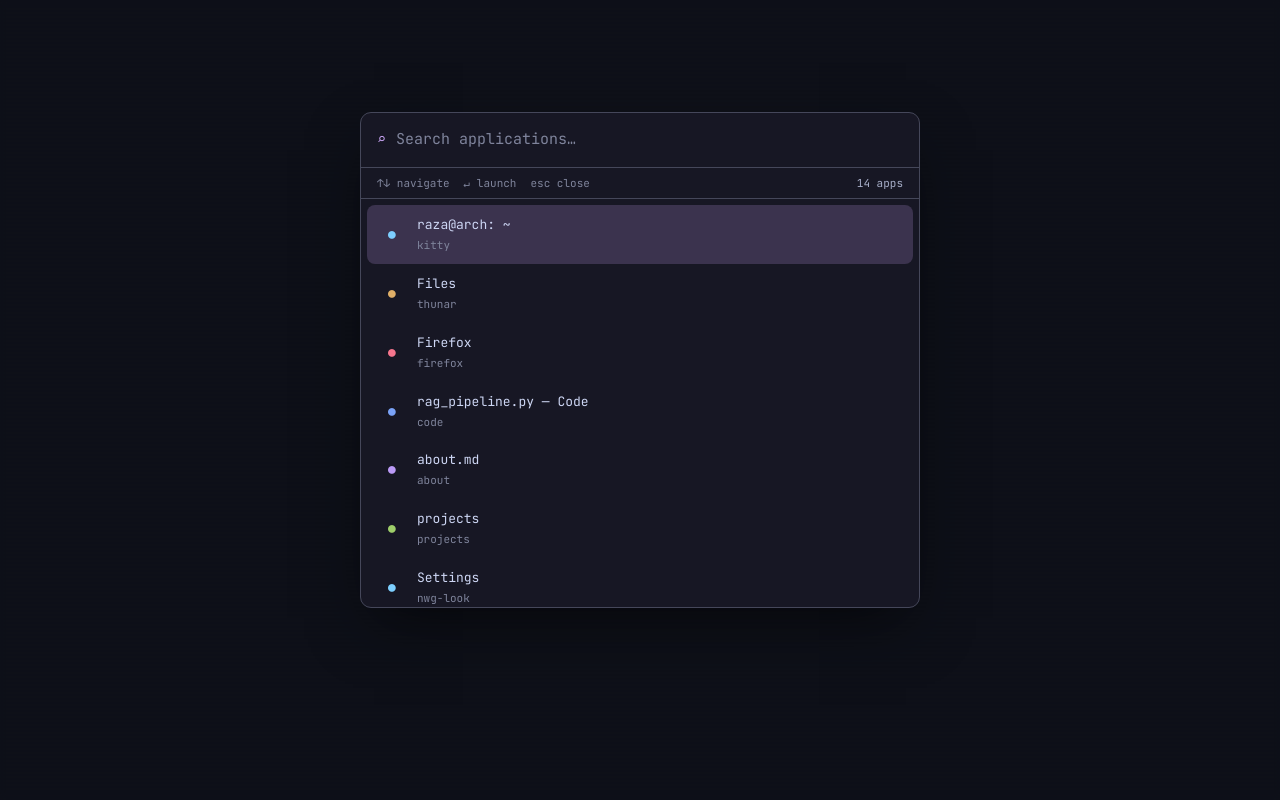
Scenario: Launcher accessibility › drops aria-activedescendant when nothing matches
Type "zzzzzzz" into the dropdown labelled "Search applications" at (650, 140), box x1=396 y1=127 x2=903 y2=152
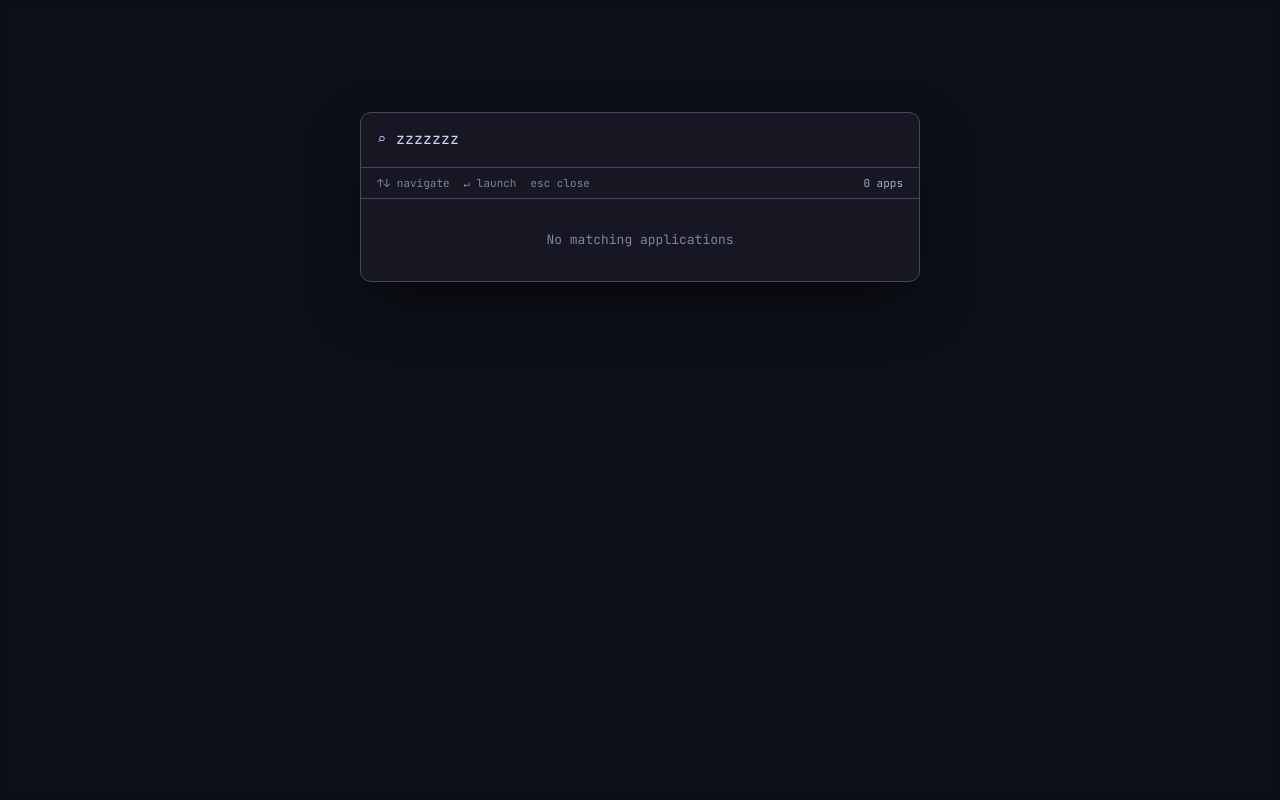
expect the text "No matching applications" is shown: met, box x1=546 y1=231 x2=734 y2=248
